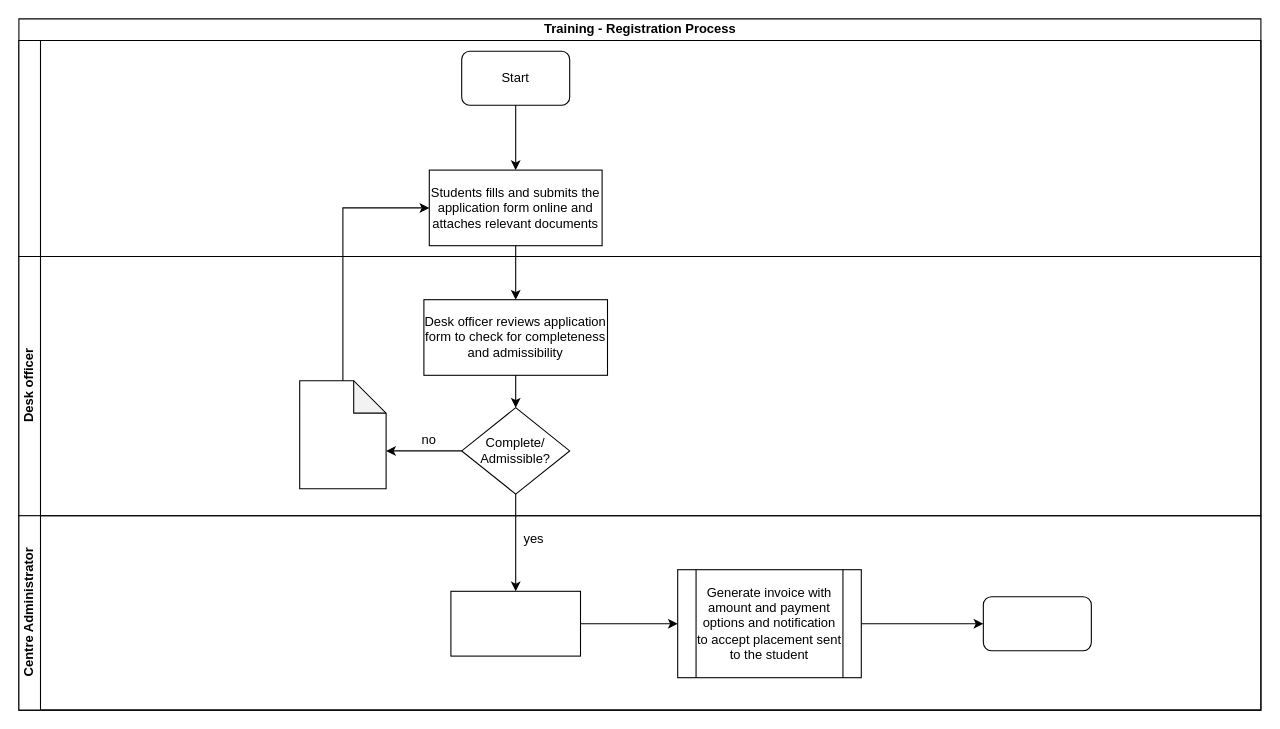
This 1280x729 diagram has some shape labels left out. The shapes that lost their labels are listed below. From the top down, each one's box as (x1, y1, x2, y2) in pixels, then its label:
(18, 39, 1261, 256): Prospective student
(299, 380, 386, 489): Rejection comments
(450, 590, 580, 656): The Centre Administrator approves validated student application
(982, 596, 1091, 651): End
